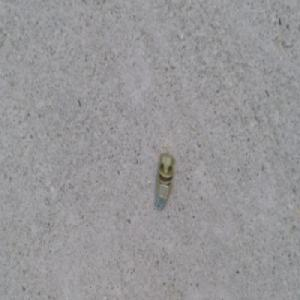BoltNutSet: (155, 155, 173, 202)
